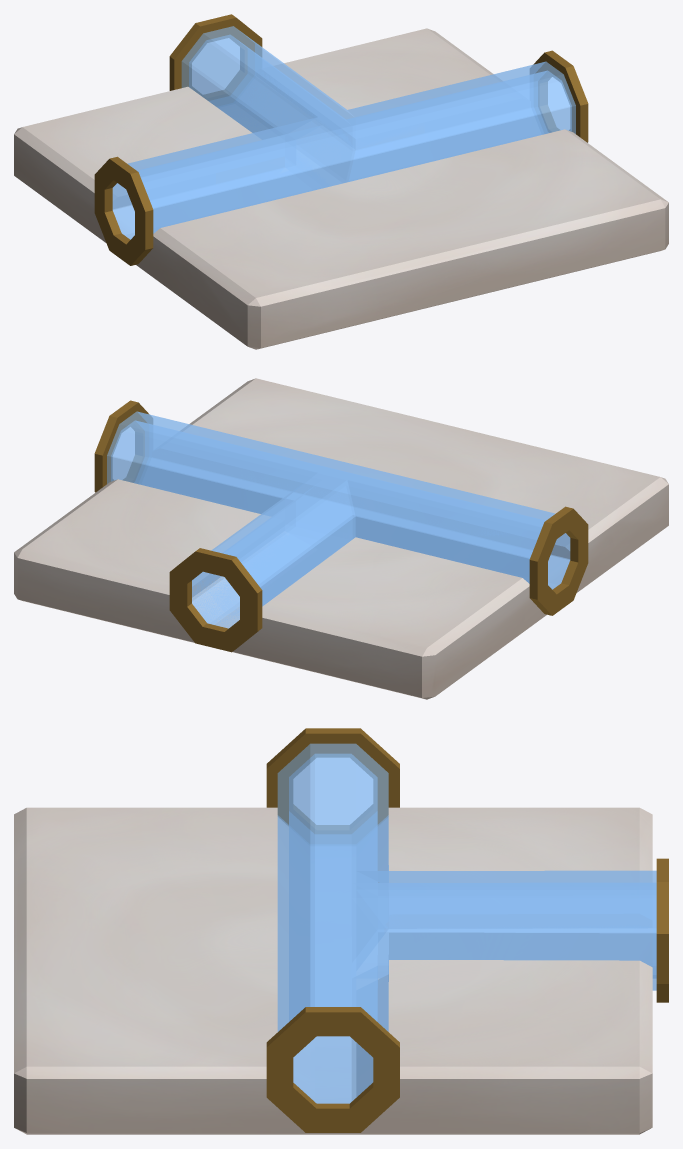
The model's file is T_piece.fbx.
3 views of the same model, one above another, from view 1: azimuth 30°, elevation 25°; view 2: azimuth 150°, elevation 25°; view 3: azimuth 270°, elevation 25° (orthographic). The views are drawn at different scales.
Visible parts, largest first — view 1: puzzle_piece_T_base, T_pipe, T_pipe_endcap2, T_pipe_endcap3, T_pipe_endcap1; view 2: puzzle_piece_T_base, T_pipe, T_pipe_endcap3, T_pipe_endcap2, T_pipe_endcap1; view 3: puzzle_piece_T_base, T_pipe, T_pipe_endcap1, T_pipe_endcap2, T_pipe_endcap3.
Part boxes in pixels (box(x1,y1,x2,y2)): puzzle_piece_T_base: box(14, 28, 668, 349); T_pipe: box(112, 26, 575, 239); T_pipe_endcap2: box(94, 156, 153, 265); T_pipe_endcap3: box(169, 14, 262, 100); T_pipe_endcap1: box(530, 50, 588, 142); puzzle_piece_T_base: box(14, 378, 668, 699); T_pipe: box(107, 411, 570, 628); T_pipe_endcap3: box(169, 548, 262, 652); T_pipe_endcap2: box(529, 506, 588, 615); T_pipe_endcap1: box(94, 400, 152, 492); puzzle_piece_T_base: box(14, 807, 652, 1134); T_pipe: box(277, 743, 656, 1103); T_pipe_endcap1: box(266, 1007, 399, 1132); T_pipe_endcap2: box(266, 728, 399, 833); T_pipe_endcap3: box(656, 858, 668, 1002).
Bounding box in the file's own units: 145 × 32.15 × 142.
